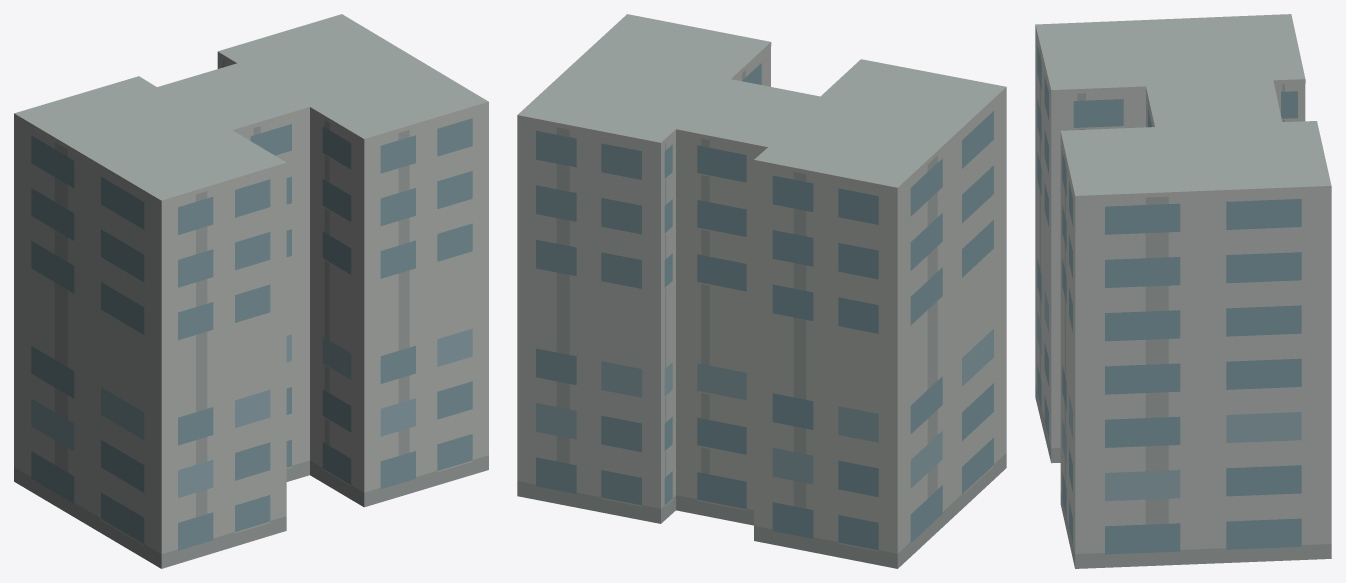
Rendered from survey-upis-32668255.glb.
3 views of the same model, side by side, from view 1: azimuth 30°, elevation 25°; view 2: azimuth 150°, elevation 25°; view 3: azimuth 270°, elevation 25° (orthographic). The views are drawn at different scales.
Parts seen in each view (by area): view 1: survey-upis-32668255.tmp; view 2: survey-upis-32668255.tmp; view 3: survey-upis-32668255.tmp.
Boxes of the visible parts, x1,y1,x2,y2 form: survey-upis-32668255.tmp: (14,14,488,568); survey-upis-32668255.tmp: (517,14,1006,568); survey-upis-32668255.tmp: (1035,14,1331,568).
Bounding box in the file's own units: 21.77 × 20.8 × 14.98.
